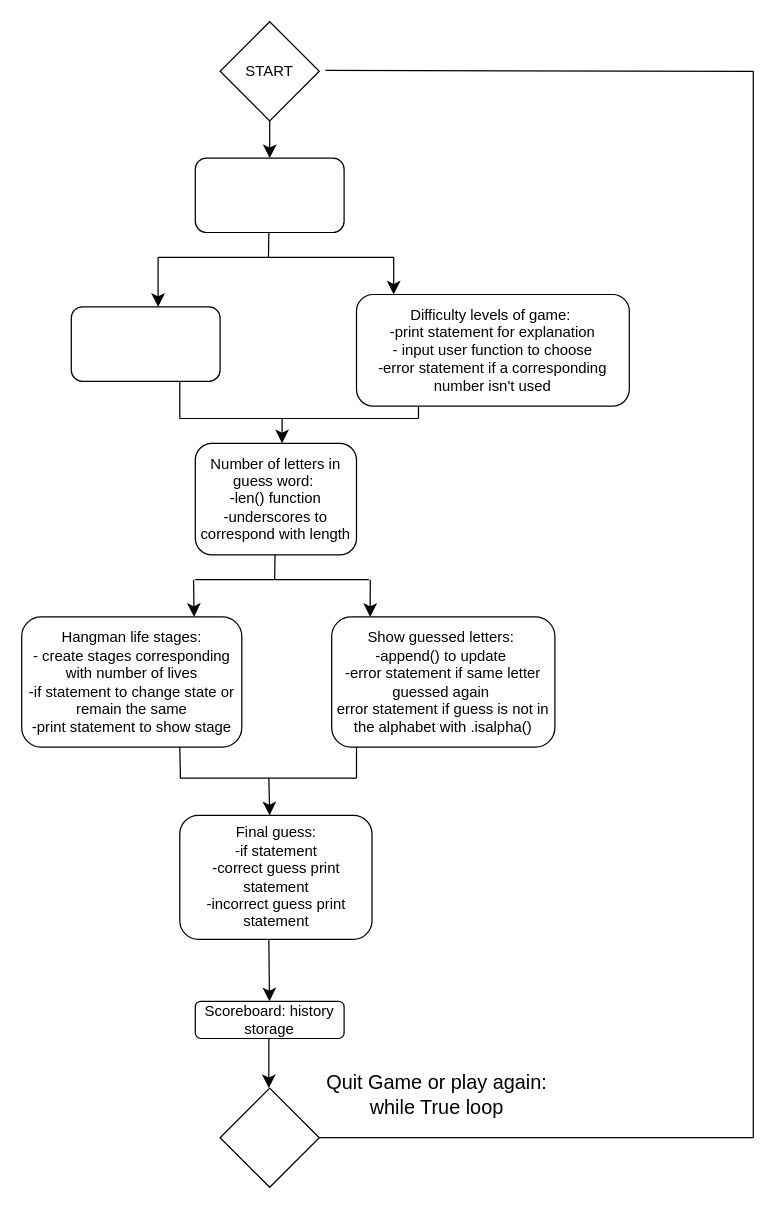
This 776x1209 diagram has some shape labels left out. Each missing label, with the centre of its shape:
END: (269,1137)
Player Introduction : create user input function: (269,194)
Word bank: Create a dictionary of words & random choice: (145,343)
